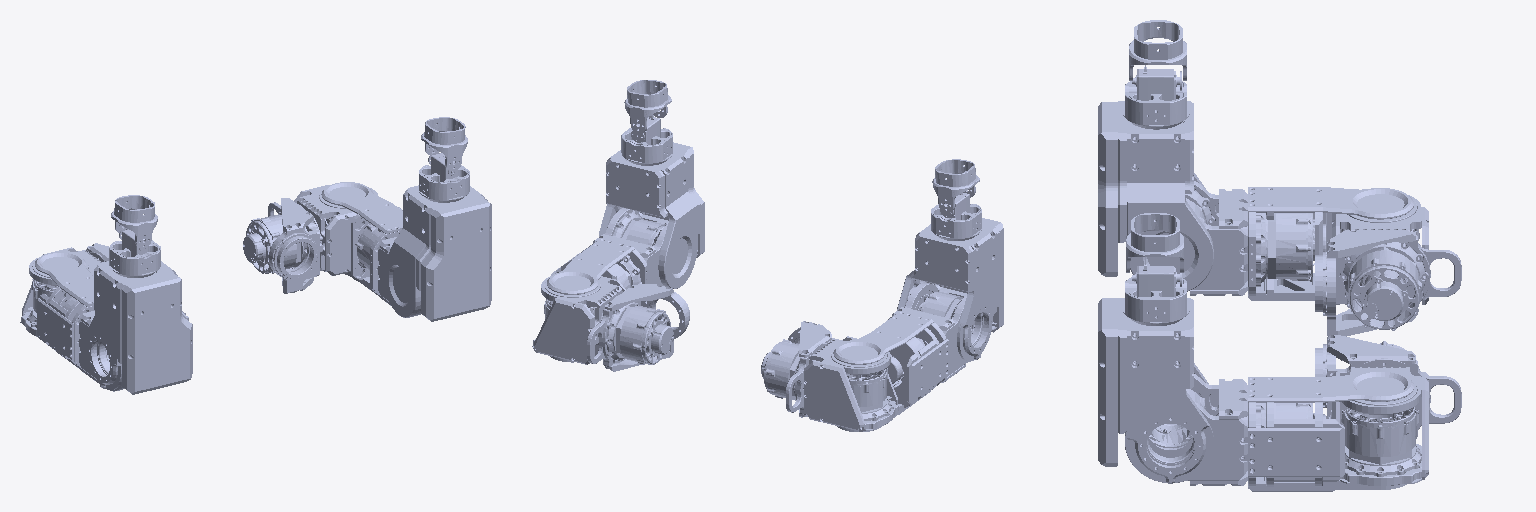
The robot description file, URDF, robot "robot_upbody":
<?xml version="1.0" encoding="utf-8"?>
<!-- This URDF was automatically created by SolidWorks to URDF Exporter! Originally created by [author] ([email redacted]) 
     Commit Version: 1.6.0-4-g7f85cfe  Build Version: 1.6.7995.38578
     For more information, please see http://wiki.ros.org/sw_urdf_exporter -->
<robot
  name="robot_upbody">
  <link
    name="base_link">
    <inertial>
      <origin
        xyz="-1.4291E-05 0.2849 -0.027553"
        rpy="0 0 0" />
      <mass
        value="3.4185" />
      <inertia
        ixx="0.0053011"
        ixy="5.2629E-08"
        ixz="-7.1774E-08"
        iyy="0.0046376"
        iyz="4.9685E-05"
        izz="0.0062191" />
    </inertial>
    <visual>
      <origin
        xyz="0.155 0.315 -0.039"
        rpy="0 0 0" />
      <geometry>
        <mesh
          filename="package://robot_upbody/meshes/base_link.STL" />
      </geometry>
      <material
        name="">
        <color
          rgba="0.79216 0.81961 0.93333 1" />
      </material>
    </visual>
    <collision>
      <origin
        xyz="0.155 0.3 -0.039"
        rpy="0 0 0" />
      <geometry>
        <mesh
          filename="package://robot_upbody/meshes/base_link.STL" />
      </geometry>
    </collision>
  </link>
  <link
    name="right_link_1">
    <inertial>
      <origin
        xyz="-0.0169394233480525 0.0493510356397495 -0.00734818946133349"
        rpy="0 0 0" />
      <mass
        value="0.242454600524403" />
      <inertia
        ixx="0.000245618746846525"
        ixy="6.78472695890831E-06"
        ixz="-7.44163235765114E-07"
        iyy="0.000143684228728702"
        iyz="4.93240265822312E-07"
        izz="0.000175534064378257" />
    </inertial>
    <visual>
      <origin
        xyz="-0.035 0.065 -0.01"
        rpy="0 0 0" />
      <geometry>
        <mesh
          filename="package://robot_upbody/meshes/right_link_1.STL" />
      </geometry>
      <material
        name="">
        <color
          rgba="0.792156862745098 0.819607843137255 0.933333333333333 1" />
      </material>
    </visual>
    <collision>
      <origin
        xyz="-0.035 0.065 -0.01"
        rpy="0 0 0" />
      <geometry>
        <mesh
          filename="package://robot_upbody/meshes/right_link_1.STL" />
      </geometry>
    </collision>
  </link>
  <joint
    name="right_joint_1"
    type="revolute">
    <origin
      xyz="-0.117 0.2535 -0.03"
      rpy="0 0 0" />
    <parent
      link="base_link" />
    <child
      link="right_link_1" />
    <axis
      xyz="0 1 0" />
    <limit
      lower="-3.1415926"
      upper="3.1415926"
      effort="50.0"
      velocity="10.0" />
  </joint>
  <link
    name="right_link_2">
    <inertial>
      <origin
        xyz="-0.04667868471523 -2.33852948117175E-09 -0.00131249174790722"
        rpy="0 0 0" />
      <mass
        value="0.151788080599915" />
      <inertia
        ixx="0.00012970868164654"
        ixy="-9.77874852698615E-12"
        ixz="-4.51576857686109E-06"
        iyy="0.000152633166983656"
        iyz="1.84321949531787E-11"
        izz="0.000174060835416301" />
    </inertial>
    <visual>
      <origin
        xyz="0 0 0"
        rpy="0 0 0" />
      <geometry>
        <mesh
          filename="package://robot_upbody/meshes/right_link_2.STL" />
      </geometry>
      <material
        name="">
        <color
          rgba="0.792156862745098 0.819607843137255 0.933333333333333 1" />
      </material>
    </visual>
    <collision>
      <origin
        xyz="0 0 0"
        rpy="0 0 0" />
      <geometry>
        <mesh
          filename="package://robot_upbody/meshes/right_link_2.STL" />
      </geometry>
    </collision>
  </link>
  <joint
    name="right_joint_2"
    type="revolute">
    <origin
      xyz="-0.0335 0.061 -0.0075"
      rpy="0 0 0" />
    <parent
      link="right_link_1" />
    <child
      link="right_link_2" />
    <axis
      xyz="1 0 0" />
    <limit
      lower="-3.1415926"
      upper="3.1415926"
      effort="50.0"
      velocity="10.0" />
  </joint>
  <link
    name="right_link_3">
    <inertial>
      <origin
        xyz="-0.0146220588418826 -0.070163337621401 -0.00874523264180043"
        rpy="0 0 0" />
      <mass
        value="0.186162046008109" />
      <inertia
        ixx="0.000287349852170535"
        ixy="-1.28089793297699E-05"
        ixz="2.09134392423303E-07"
        iyy="0.000171752665996351"
        iyz="7.60732255006257E-07"
        izz="0.000294425740796336" />
    </inertial>
    <visual>
      <origin
        xyz="0 0 0"
        rpy="0 0 0" />
      <geometry>
        <mesh
          filename="package://robot_upbody/meshes/right_link_3.STL" />
      </geometry>
      <material
        name="">
        <color
          rgba="0.792156862745098 0.819607843137255 0.933333333333333 1" />
      </material>
    </visual>
    <collision>
      <origin
        xyz="0 0 0"
        rpy="0 0 0" />
      <geometry>
        <mesh
          filename="package://robot_upbody/meshes/right_link_3.STL" />
      </geometry>
    </collision>
  </link>
  <joint
    name="right_joint_3"
    type="revolute">
    <origin
      xyz="-0.0735 0 0"
      rpy="0 0 0" />
    <parent
      link="right_link_2" />
    <child
      link="right_link_3" />
    <axis
      xyz="0 0 1" />
    <limit
      lower="-3.1415926"
      upper="3.1415926"
      effort="50.0"
      velocity="10.0" />
  </joint>
  <link
    name="right_link_4">
    <inertial>
      <origin
        xyz="0.00258400305403297 -0.0494378395979602 -0.000494226798544162"
        rpy="0 0 0" />
      <mass
        value="0.156942934381875" />
      <inertia
        ixx="0.000205221076307093"
        ixy="1.94492246778472E-08"
        ixz="1.71616354975139E-07"
        iyy="0.000124345345430931"
        iyz="1.10317165751683E-05"
        izz="0.000167084201768154" />
    </inertial>
    <visual>
      <origin
        xyz="0 0 0"
        rpy="0 0 0" />
      <geometry>
        <mesh
          filename="package://robot_upbody/meshes/right_link_4.STL" />
      </geometry>
      <material
        name="">
        <color
          rgba="0.792156862745098 0.819607843137255 0.933333333333333 1" />
      </material>
    </visual>
    <collision>
      <origin
        xyz="0 0 0"
        rpy="0 0 0" />
      <geometry>
        <mesh
          filename="package://robot_upbody/meshes/right_link_4.STL" />
      </geometry>
    </collision>
  </link>
  <joint
    name="right_joint_4"
    type="revolute">
    <origin
      xyz="-0.0095 -0.126 -0.0015"
      rpy="0 0 0" />
    <parent
      link="right_link_3" />
    <child
      link="right_link_4" />
    <axis
      xyz="0 1 0" />
    <limit
      lower="-3.1415926"
      upper="3.1415926"
      effort="50.0"
      velocity="10.0" />
  </joint>
  <link
    name="right_link_5">
    <inertial>
      <origin
        xyz="-0.00279324607741102 -0.0247714139955753 0.0614940746926684"
        rpy="0 0 0" />
      <mass
        value="0.397163798321493" />
      <inertia
        ixx="0.000734575411390296"
        ixy="-2.81090420854605E-06"
        ixz="4.16242134114403E-05"
        iyy="0.00081959505124302"
        iyz="4.24699043657831E-05"
        izz="0.000322500640832015" />
    </inertial>
    <visual>
      <origin
        xyz="0 0 0"
        rpy="0 0 0" />
      <geometry>
        <mesh
          filename="package://robot_upbody/meshes/right_link_5.STL" />
      </geometry>
      <material
        name="">
        <color
          rgba="0.792156862745098 0.819607843137255 0.933333333333333 1" />
      </material>
    </visual>
    <collision>
      <origin
        xyz="0 0 0"
        rpy="0 0 0" />
      <geometry>
        <mesh
          filename="package://robot_upbody/meshes/right_link_5.STL" />
      </geometry>
    </collision>
  </link>
  <joint
    name="right_joint_5"
    type="revolute">
    <origin
      xyz="0 -0.0915 0.01"
      rpy="0 0 0" />
    <parent
      link="right_link_4" />
    <child
      link="right_link_5" />
    <axis
      xyz="1 0 0" />
    <limit
      lower="-3.1415926"
      upper="3.1415926"
      effort="50.0"
      velocity="10.0" />
  </joint>
  <link
    name="right_link_6">
    <inertial>
      <origin
        xyz="2.67384432511841E-07 0.000899958551658531 0.024955823176817"
        rpy="0 0 0" />
      <mass
        value="0.084836029048728" />
      <inertia
        ixx="3.09213078009674E-05"
        ixy="-4.08853044653094E-12"
        ixz="-4.74551637135629E-11"
        iyy="3.05523489847958E-05"
        iyz="-2.4959412436622E-08"
        izz="4.54802589109175E-05" />
    </inertial>
    <visual>
      <origin
        xyz="0 0 0"
        rpy="0 0 0" />
      <geometry>
        <mesh
          filename="package://robot_upbody/meshes/right_link_6.STL" />
      </geometry>
      <material
        name="">
        <color
          rgba="0.792156862745098 0.819607843137255 0.933333333333333 1" />
      </material>
    </visual>
    <collision>
      <origin
        xyz="0 0 0"
        rpy="0 0 0" />
      <geometry>
        <mesh
          filename="package://robot_upbody/meshes/right_link_6.STL" />
      </geometry>
    </collision>
  </link>
  <joint
    name="right_joint_6"
    type="revolute">
    <origin
      xyz="-0.008 -0.015 0.124"
      rpy="0 0 0" />
    <parent
      link="right_link_5" />
    <child
      link="right_link_6" />
    <axis
      xyz="0 0 1" />
    <limit
      lower="-3.1415926"
      upper="3.1415926"
      effort="50.0"
      velocity="10.0" />
  </joint>
  <link
    name="right_link_7">
    <inertial>
      <origin
        xyz="-0.00169524257766807 -2.97113667419024E-08 0.0236554390828784"
        rpy="0 0 0" />
      <mass
        value="0.0197472199736857" />
      <inertia
        ixx="1.30953803170028E-05"
        ixy="-2.13021119834906E-11"
        ixz="-1.12946107355419E-07"
        iyy="8.59262197237419E-06"
        iyz="1.59884908140898E-11"
        izz="1.46639761209948E-05" />
    </inertial>
    <visual>
      <origin
        xyz="0.2385 -0.08 -0.13"
        rpy="0 0 0" />
      <geometry>
        <mesh
          filename="package://robot_upbody/meshes/right_link_7.STL" />
      </geometry>
      <material
        name="">
        <color
          rgba="0.792156862745098 0.819607843137255 0.933333333333333 1" />
      </material>
    </visual>
    <collision>
      <origin
        xyz="0 0 0"
        rpy="0 0 0" />
      <geometry>
        <mesh
          filename="package://robot_upbody/meshes/right_link_7.STL" />
      </geometry>
    </collision>
  </link>
  <joint
    name="right_joint_7"
    type="revolute">
    <origin
      xyz="0 0 0.04702"
      rpy="0 0.071536 0" />
    <parent
      link="right_link_6" />
    <child
      link="right_link_7" />
    <axis
      xyz="0 1 0" />
    <limit
      lower="-3.1415926"
      upper="3.1415926"
      effort="50.0"
      velocity="10.0" />
  </joint>
  <link
    name="left_link_1">
    <inertial>
      <origin
        xyz="0.0169394239205125 0.0493452416336612 -0.00733813111292299"
        rpy="0 0 0" />
      <mass
        value="0.242454607065276" />
      <inertia
        ixx="0.000245618756775859"
        ixy="-6.78510827334542E-06"
        ixz="7.44769460901073E-07"
        iyy="0.000143671180961938"
        iyz="5.00782536399529E-07"
        izz="0.000175547122189144" />
    </inertial>
    <visual>
      <origin
        xyz="0.035 0.065 -0.01"
        rpy="0 0 0" />
      <geometry>
        <mesh
          filename="package://robot_upbody/meshes/left_link_1.STL" />
      </geometry>
      <material
        name="">
        <color
          rgba="0.792156862745098 0.819607843137255 0.933333333333333 1" />
      </material>
    </visual>
    <collision>
      <origin
        xyz="0.035 0.065 -0.01"
        rpy="0 0 0" />
      <geometry>
        <mesh
          filename="package://robot_upbody/meshes/left_link_1.STL" />
      </geometry>
    </collision>
  </link>
  <joint
    name="left_joint_1"
    type="revolute">
    <origin
      xyz="0.117 0.2535 -0.03"
      rpy="0 0 0" />
    <parent
      link="base_link" />
    <child
      link="left_link_1" />
    <axis
      xyz="0 1 0" />
    <limit
      lower="-3.1415926"
      upper="3.1415926"
      effort="50.0"
      velocity="10.0" />
  </joint>
  <link
    name="left_link_2">
    <inertial>
      <origin
        xyz="0.0419886321313334 -1.85580528722085E-09 -0.00158397435093512"
        rpy="0 0 0" />
      <mass
        value="0.135704303079154" />
      <inertia
        ixx="0.000116951548209488"
        ixy="3.20313882061185E-10"
        ixz="4.51577124364832E-06"
        iyy="0.0001460286247078"
        iyz="-9.93390694283449E-12"
        izz="0.000167678664878982" />
    </inertial>
    <visual>
      <origin
        xyz="0 0 0"
        rpy="0 0 0" />
      <geometry>
        <mesh
          filename="package://robot_upbody/meshes/left_link_2.STL" />
      </geometry>
      <material
        name="">
        <color
          rgba="0.792156862745098 0.819607843137255 0.933333333333333 1" />
      </material>
    </visual>
    <collision>
      <origin
        xyz="0 0 0"
        rpy="0 0 0" />
      <geometry>
        <mesh
          filename="package://robot_upbody/meshes/left_link_2.STL" />
      </geometry>
    </collision>
  </link>
  <joint
    name="left_joint_2"
    type="revolute">
    <origin
      xyz="0.043 0.061 -0.0075"
      rpy="0 0 0" />
    <parent
      link="left_link_1" />
    <child
      link="left_link_2" />
    <axis
      xyz="-1 0 0" />
    <limit
      lower="-3.1415926"
      upper="3.1415926"
      effort="50.0"
      velocity="10.0" />
  </joint>
  <link
    name="left_link_3">
    <inertial>
      <origin
        xyz="0.0160432889827714 -0.0769830120732114 -0.00553610142264579"
        rpy="0 0 0" />
      <mass
        value="0.169670551920723" />
      <inertia
        ixx="0.000280520660976463"
        ixy="1.28089868995472E-05"
        ixz="-2.08655894183046E-07"
        iyy="0.000164923193272086"
        iyz="1.01807266421765E-06"
        izz="0.000281442873040681" />
    </inertial>
    <visual>
      <origin
        xyz="0 0 0"
        rpy="0 0 0" />
      <geometry>
        <mesh
          filename="package://robot_upbody/meshes/left_link_3.STL" />
      </geometry>
      <material
        name="">
        <color
          rgba="0.792156862745098 0.819607843137255 0.933333333333333 1" />
      </material>
    </visual>
    <collision>
      <origin
        xyz="0 0 0"
        rpy="0 0 0" />
      <geometry>
        <mesh
          filename="package://robot_upbody/meshes/left_link_3.STL" />
      </geometry>
    </collision>
  </link>
  <joint
    name="left_joint_3"
    type="revolute">
    <origin
      xyz="0.064 0 0"
      rpy="0 0 0" />
    <parent
      link="left_link_2" />
    <child
      link="left_link_3" />
    <axis
      xyz="0 0 1" />
    <limit
      lower="-3.1415926"
      upper="3.1415926"
      effort="50.0"
      velocity="10.0" />
  </joint>
  <link
    name="left_link_4">
    <inertial>
      <origin
        xyz="-0.00288741786760169 -0.0448313318590571 -0.000552259404888747"
        rpy="0 0 0" />
      <mass
        value="0.140451429329348" />
      <inertia
        ixx="0.000198391595464958"
        ixy="1.59033420611229E-06"
        ixz="-1.71625526403715E-07"
        iyy="0.000111363306186003"
        iyz="1.10313782750582E-05"
        izz="0.000160254153321471" />
    </inertial>
    <visual>
      <origin
        xyz="0 0 0"
        rpy="0 0 0" />
      <geometry>
        <mesh
          filename="package://robot_upbody/meshes/left_link_4.STL" />
      </geometry>
      <material
        name="">
        <color
          rgba="0.792156862745098 0.819607843137255 0.933333333333333 1" />
      </material>
    </visual>
    <collision>
      <origin
        xyz="0 0 0"
        rpy="0 0 0" />
      <geometry>
        <mesh
          filename="package://robot_upbody/meshes/left_link_4.STL" />
      </geometry>
    </collision>
  </link>
  <joint
    name="left_joint_4"
    type="revolute">
    <origin
      xyz="0.0095 -0.1355 -0.0015"
      rpy="0 0 0" />
    <parent
      link="left_link_3" />
    <child
      link="left_link_4" />
    <axis
      xyz="0 1 0" />
    <limit
      lower="-3.1415926"
      upper="3.1415926"
      effort="50.0"
      velocity="10.0" />
  </joint>
  <link
    name="left_link_5">
    <inertial>
      <origin
        xyz="0.00280103388542455 -0.0247714140771967 0.0614940778454403"
        rpy="0 0 0" />
      <mass
        value="0.397163785434917" />
      <inertia
        ixx="0.000734575433595593"
        ixy="2.81099279932564E-06"
        ixz="-4.16243842598899E-05"
        iyy="0.000819595032776918"
        iyz="4.24699124985003E-05"
        izz="0.000322500621143209" />
    </inertial>
    <visual>
      <origin
        xyz="0 0 0"
        rpy="0 0 0" />
      <geometry>
        <mesh
          filename="package://robot_upbody/meshes/left_link_5.STL" />
      </geometry>
      <material
        name="">
        <color
          rgba="0.792156862745098 0.819607843137255 0.933333333333333 1" />
      </material>
    </visual>
    <collision>
      <origin
        xyz="0 0 0"
        rpy="0 0 0" />
      <geometry>
        <mesh
          filename="package://robot_upbody/meshes/left_link_5.STL" />
      </geometry>
    </collision>
  </link>
  <joint
    name="left_joint_5"
    type="revolute">
    <origin
      xyz="0 -0.082 0.01"
      rpy="0 0 0" />
    <parent
      link="left_link_4" />
    <child
      link="left_link_5" />
    <axis
      xyz="1 0 0" />
    <limit
      lower="-3.1415926"
      upper="3.1415926"
      effort="50.0"
      velocity="10.0" />
  </joint>
  <link
    name="left_link_6">
    <inertial>
      <origin
        xyz="-0.0051989661145754 -0.00977141407719664 -0.0625059221545606"
        rpy="0 0 0" />
      <mass
        value="0.397163785434917" />
      <inertia
        ixx="0.000734575433595593"
        ixy="2.81099279932564E-06"
        ixz="-4.16243842598899E-05"
        iyy="0.000819595032776919"
        iyz="4.24699124985003E-05"
        izz="0.00032250062114321" />
    </inertial>
    <visual>
      <origin
        xyz="0 0 0"
        rpy="0 0 0" />
      <geometry>
        <mesh
          filename="package://robot_upbody/meshes/right_link_6.STL" />
      </geometry>
      <material
        name="">
        <color
          rgba="0.792156862745098 0.819607843137255 0.933333333333333 1" />
      </material>
    </visual>
    <collision>
      <origin
        xyz="0 0 0"
        rpy="0 0 0" />
      <geometry>
        <mesh
          filename="package://robot_upbody/meshes/right_link_6.STL" />
      </geometry>
    </collision>
  </link>
  <joint
    name="left_joint_6"
    type="revolute">
    <origin
      xyz="0.008 -0.015 0.124"
      rpy="0 0 0" />
    <parent
      link="left_link_5" />
    <child
      link="left_link_6" />
    <axis
      xyz="0 0 1" />
    <limit
      lower="-3.1415926"
      upper="3.1415926"
      effort="50.0"
      velocity="10.0" />
  </joint>
  <link
    name="left_link_7">
    <inertial>
      <origin
        xyz="-0.00169496329193164 2.97113657288239E-08 0.0236554590959449"
        rpy="0 0 0" />
      <mass
        value="0.0197472199736856" />
      <inertia
        ixx="1.30953906285953E-05"
        ixy="-1.88047606882376E-11"
        ixz="-1.13017687913152E-07"
        iyy="8.59262197237419E-06"
        iyz="-1.88624706146784E-11"
        izz="1.46639658094022E-05" />
    </inertial>
    <visual>
      <origin
        xyz="0.238 -0.083 -0.125"
        rpy="0 0 0" />
      <geometry>
        <mesh
          filename="package://robot_upbody/meshes/right_link_7.STL" />
      </geometry>
      <material
        name="">
        <color
          rgba="0.792156862745098 0.819607843137255 0.933333333333333 1" />
      </material>
    </visual>
    <collision>
      <origin
        xyz="0 0 0"
        rpy="0 0 0" />
      <geometry>
        <mesh
          filename="package://robot_upbody/meshes/right_link_7.STL" />
      </geometry>
    </collision>
  </link>
  <joint
    name="left_joint_7"
    type="revolute">
    <origin
      xyz="0 0 0.04702"
      rpy="0 0.071536 0" />
    <parent
      link="left_link_6" />
    <child
      link="left_link_7" />
    <axis
      xyz="0 1 0" />
    <limit
      lower="-3.1415926"
      upper="3.1415926"
      effort="50.0"
      velocity="10.0" />
  </joint>
</robot>

--- Render facts (derived) ---
Views: 3 orthographic renders of the robot side by side, from view 1: azimuth 30°, elevation 25°; view 2: azimuth 150°, elevation 25°; view 3: azimuth 270°, elevation 25°.
Model robot_upbody with 15 links and 14 joints (14 revolute), rooted at base_link, posed every joint at zero.
Visible links, largest first — view 1: left_link_5, right_link_5, left_link_1, right_link_3, left_link_3, left_link_2, left_link_6, right_link_6, left_link_7, right_link_7, right_link_2, right_link_4; view 2: left_link_5, right_link_5, right_link_2, right_link_3, left_link_1, left_link_2, left_link_3, right_link_1, right_link_4, left_link_4, left_link_6, right_link_6 (+2 smaller); view 3: left_link_5, right_link_5, left_link_3, right_link_1, right_link_3, left_link_2, left_link_4, right_link_4, left_link_1, right_link_6, left_link_6, right_link_7 (+2 smaller).
Link boxes in pixels (x1,y1,x2,y2): left_link_5: [383, 185, 491, 321]; right_link_5: [86, 261, 192, 394]; left_link_1: [243, 198, 322, 293]; right_link_3: [35, 252, 94, 369]; left_link_3: [321, 182, 402, 296]; left_link_2: [294, 185, 377, 275]; left_link_6: [419, 152, 469, 202]; right_link_6: [109, 228, 160, 277]; left_link_7: [421, 117, 467, 170]; right_link_7: [111, 195, 157, 248]; right_link_2: [20, 247, 101, 336]; right_link_4: [79, 311, 124, 391]; left_link_5: [599, 142, 704, 288]; right_link_5: [897, 218, 1003, 360]; right_link_2: [804, 336, 898, 431]; right_link_3: [833, 311, 948, 431]; left_link_1: [587, 284, 689, 371]; left_link_2: [532, 276, 625, 364]; left_link_3: [547, 238, 647, 362]; right_link_1: [761, 321, 834, 417]; right_link_4: [892, 282, 974, 382]; left_link_4: [593, 208, 669, 299]; left_link_6: [621, 115, 672, 165]; right_link_6: [931, 193, 981, 240]; left_link_5: [1098, 298, 1213, 483]; right_link_5: [1098, 101, 1213, 291]; left_link_3: [1248, 370, 1413, 491]; right_link_1: [1315, 230, 1461, 336]; right_link_3: [1248, 187, 1413, 300]; left_link_2: [1332, 367, 1428, 485]; left_link_4: [1125, 374, 1247, 485]; right_link_4: [1185, 181, 1247, 295]; left_link_1: [1315, 335, 1461, 436]; right_link_6: [1123, 65, 1189, 129]; left_link_6: [1123, 257, 1189, 325]; right_link_7: [1129, 20, 1186, 80].
Bounding box of the posed robot: 0.574 × 0.3765 × 0.3 m (x, y, z).
14 mesh visuals loaded from 13 distinct referenced files (12 binary STL); not drawn: 1 (reference not matched to a file when rendering).